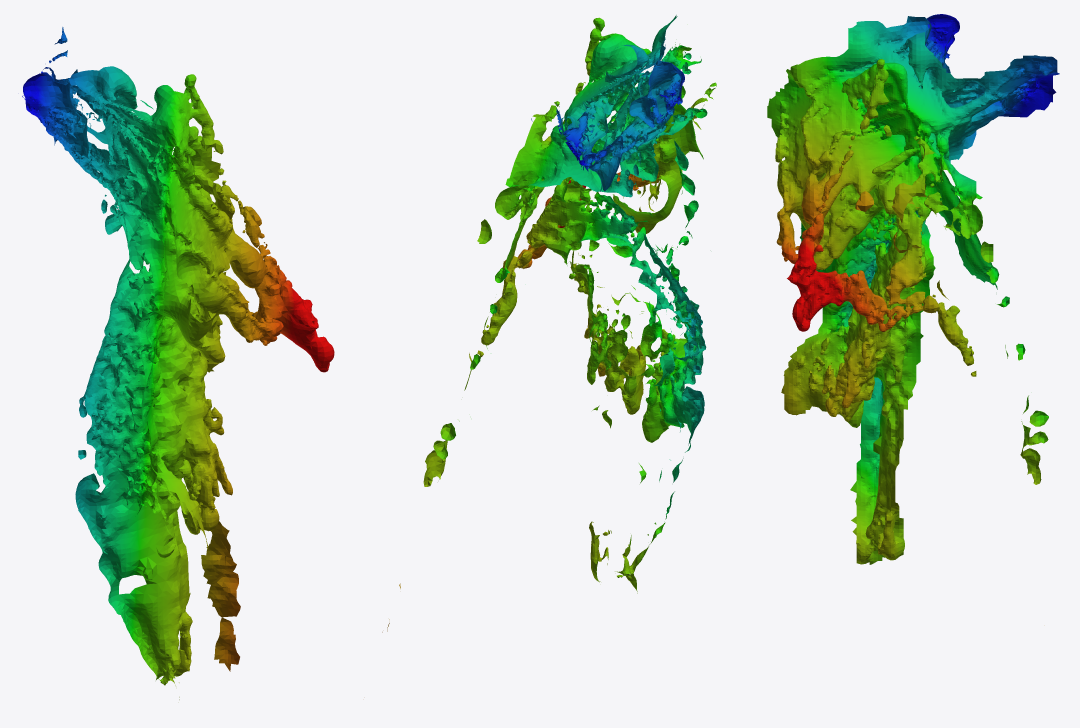
3 views of the same model, side by side, from view 1: azimuth 30°, elevation 25°; view 2: azimuth 150°, elevation 25°; view 3: azimuth 270°, elevation 25° (orthographic). The views are drawn at different scales.
Visible parts, largest first — view 1: geometry_0; view 2: geometry_0; view 3: geometry_0.
Boxes of the visible parts, left/top/right/bottom form: geometry_0: left=22, top=27, right=334, bottom=699; geometry_0: left=382, top=15, right=716, bottom=632; geometry_0: left=767, top=14, right=1059, bottom=564.
Bounding box in the file's own units: 1.5 × 3.75 × 1.68.
